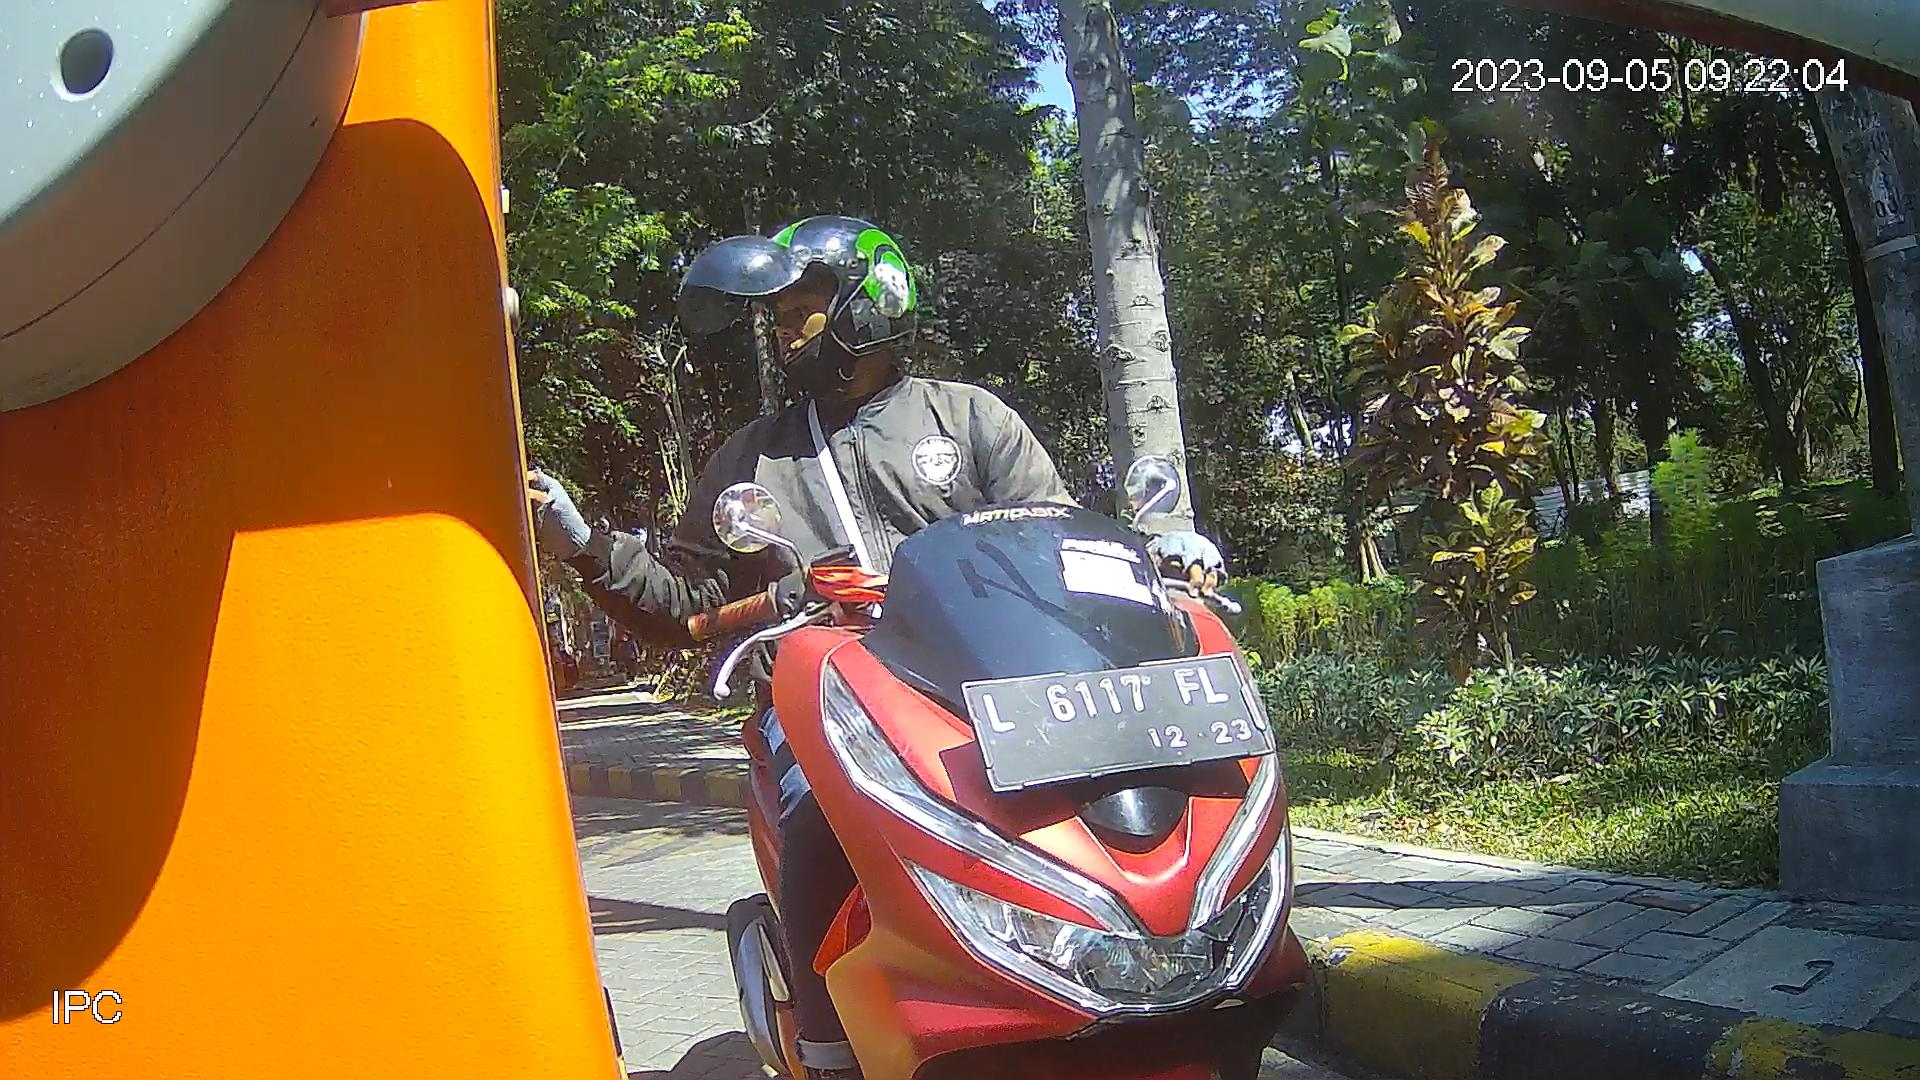plat: (957, 650, 1280, 795)
